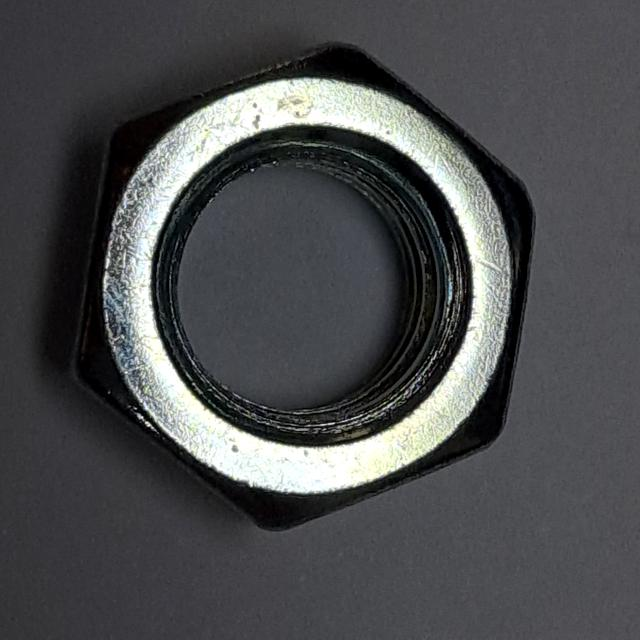Excellent: (55, 15, 549, 555)
